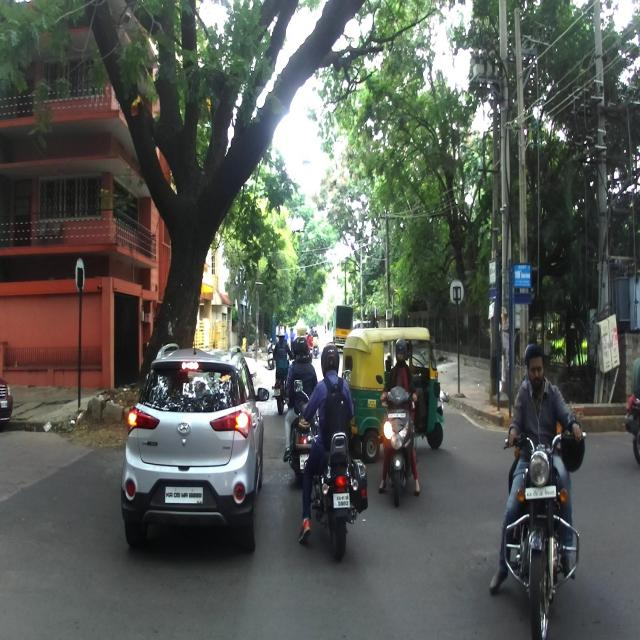Car_Hyundai: (118, 335, 268, 556)
autorickshaw: (341, 326, 443, 464)
motorcycle_RoyalEnfield: (501, 422, 587, 640)
motorcycle_bajaj: (293, 367, 368, 560)
scooter: (375, 364, 422, 506), (284, 374, 320, 486)
